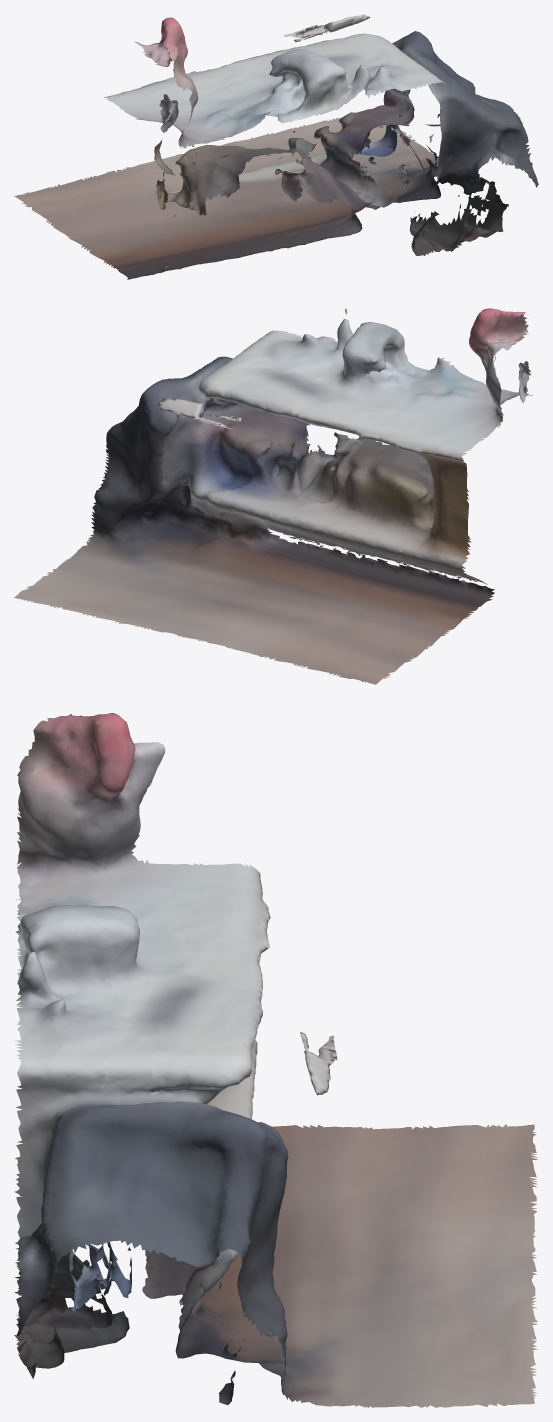
Rendered from apartment-full-92-c2330b40edd7.glb.
3 views of the same model, one above another, from view 1: azimuth 30°, elevation 25°; view 2: azimuth 150°, elevation 25°; view 3: azimuth 270°, elevation 25° (orthographic). The views are drawn at different scales.
Size of the model in its own units: 0.897 by 0.683 by 0.708.
